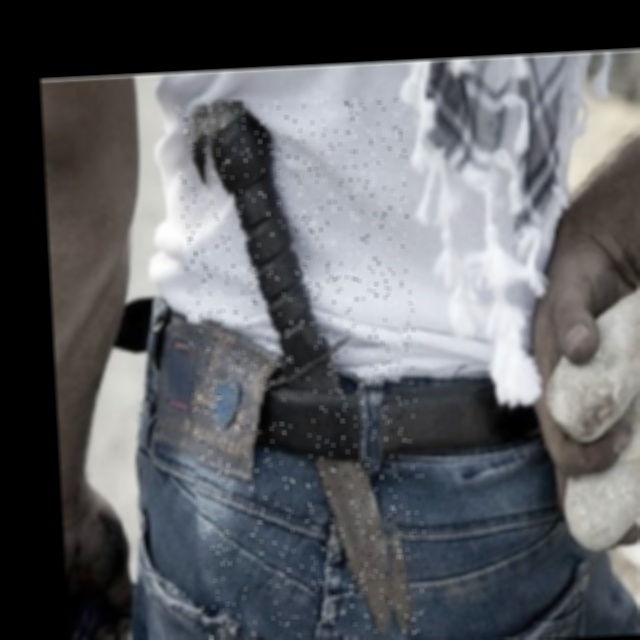Sharp-Object: (176, 94, 431, 640)
